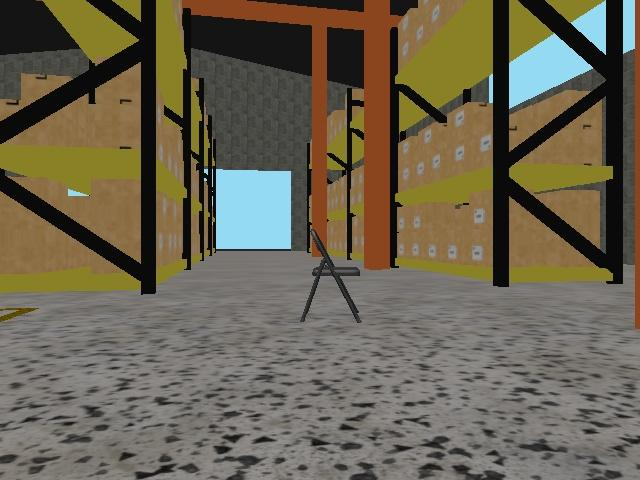chair: (298, 227, 363, 324)
